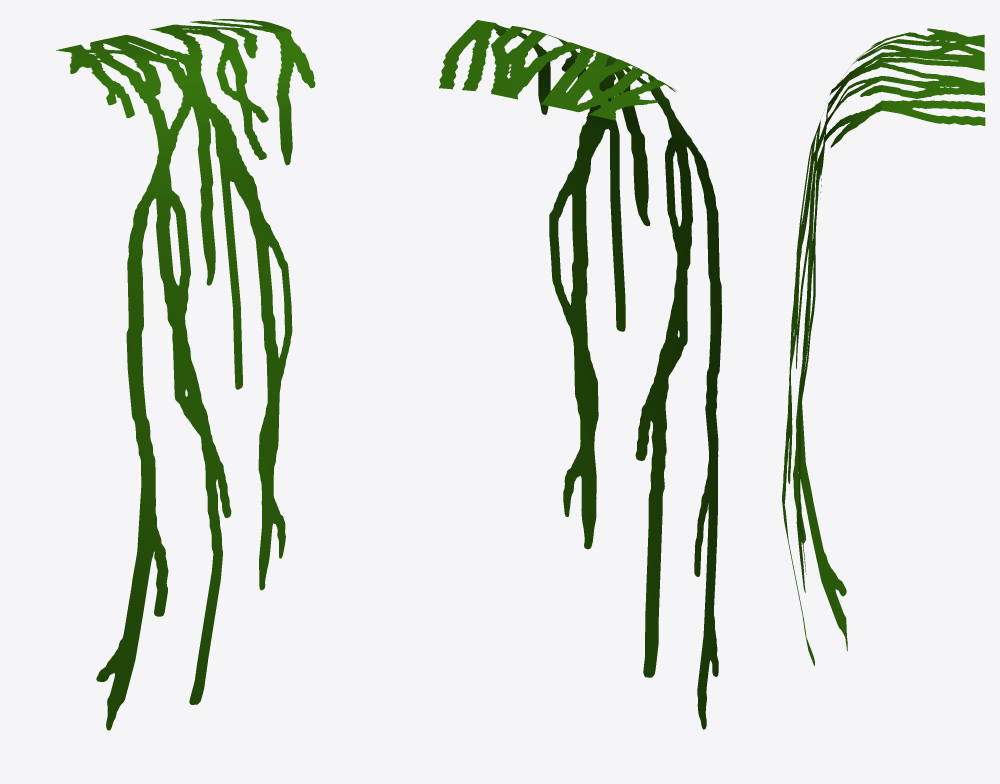
The model's file is Liana02.fbx.
3 renders of one model, left to right at view 1: azimuth 30°, elevation 25°; view 2: azimuth 150°, elevation 25°; view 3: azimuth 270°, elevation 25°, orthographic. The views are drawn at different scales.
Parts seen in each view (by area): view 1: Liana02; view 2: Liana02; view 3: Liana02.
Boxes of the visible parts, x1,y1,x2,y2 form: Liana02: [56, 19, 315, 730]; Liana02: [439, 20, 721, 729]; Liana02: [782, 28, 985, 665].
Size of the model in its own units: 79.64 by 191 by 52.3.
